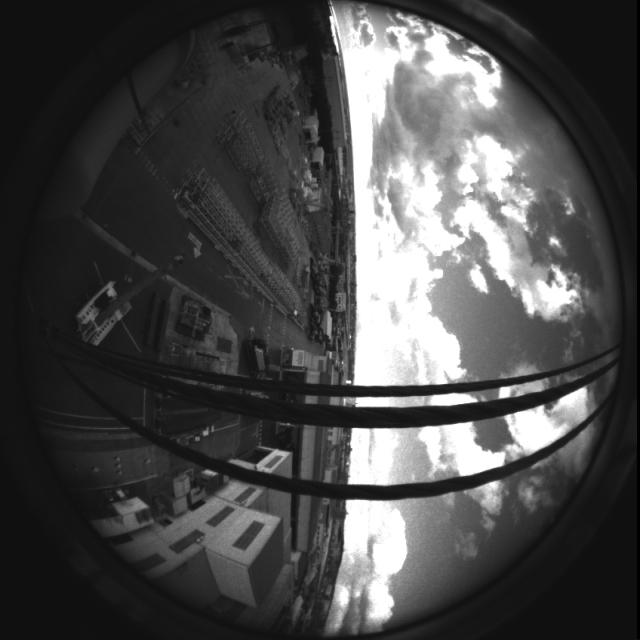rope: (9, 302, 637, 507)
sky: (324, 2, 621, 637)
